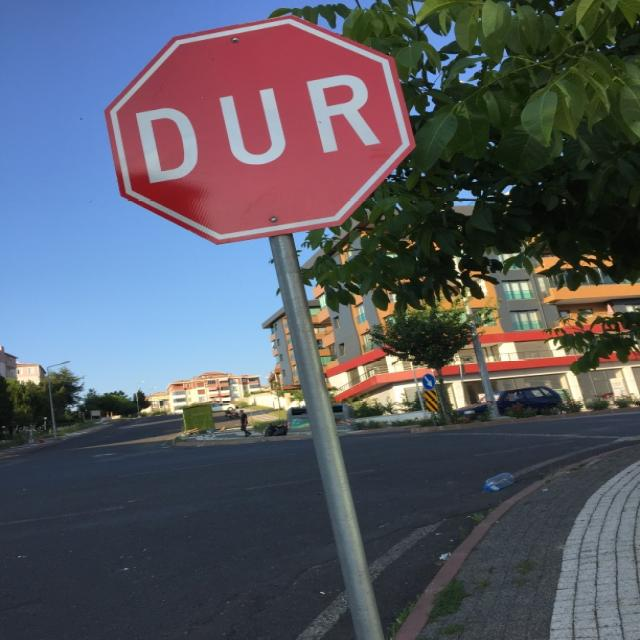dur: (104, 15, 418, 249)
